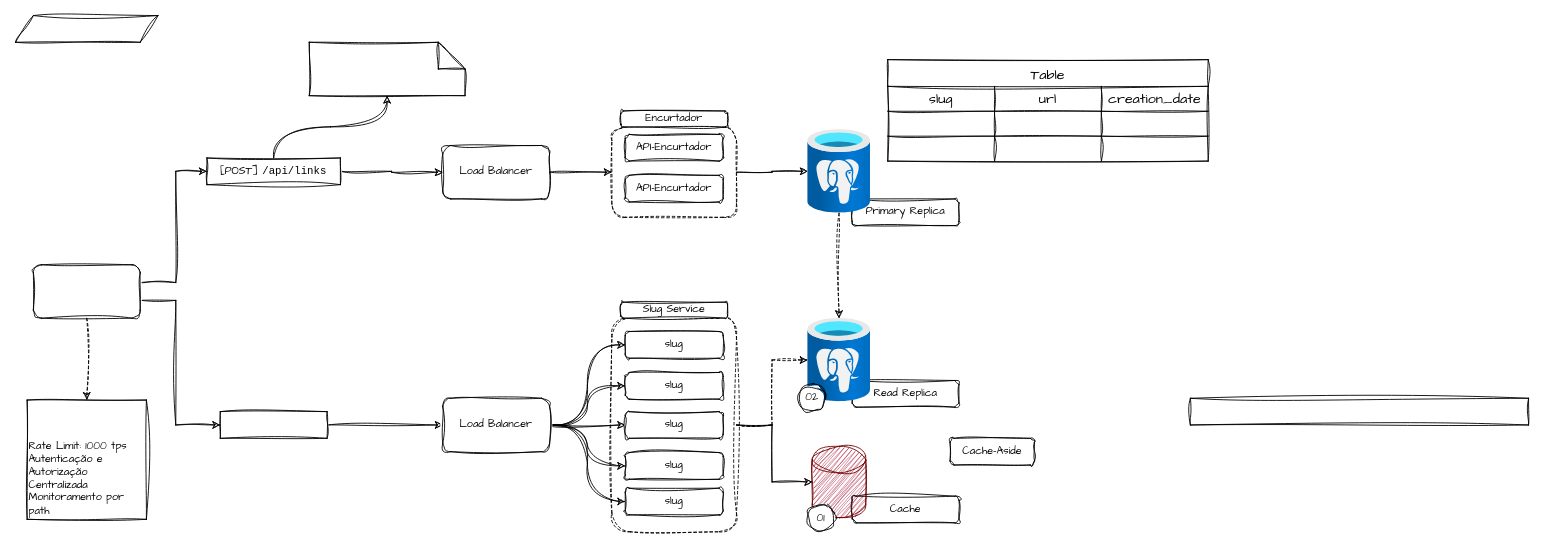
This 1544x547 diagram has some shape labels left out. The centre of each missing label's shape, as x and y in pixels:
10.000 TPS: point 86,28
[GET] /{slug}: point 273,424
[GET] /{slug}/stats?from=YYYY-MM-DD&to=YYYY-MM-DD: point 1359,411
API Gateway: point 86,291
url: <string> slug_custom: <string>: point 386,68
